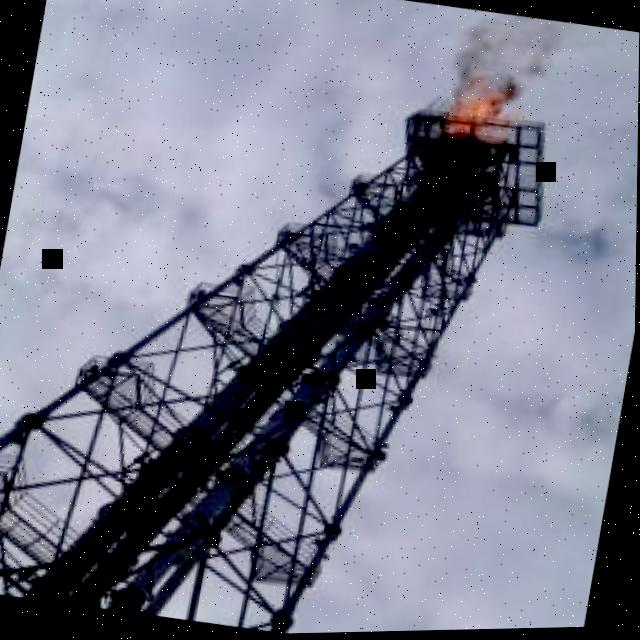fire: (451, 96, 514, 143)
smoke: (455, 16, 620, 117)
